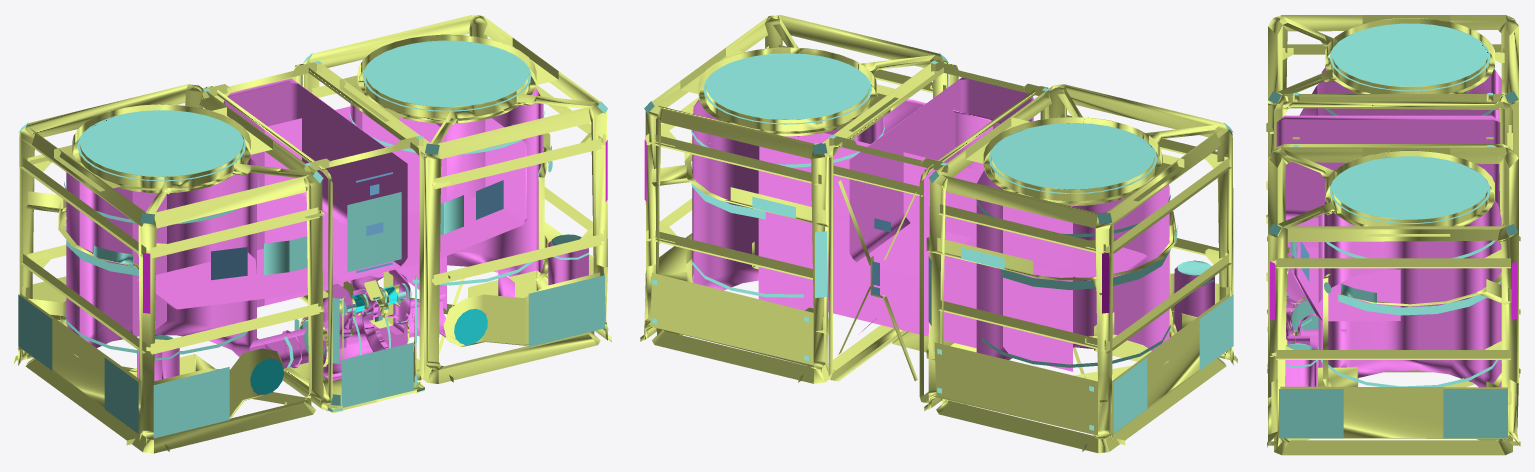
The model's file is tank_gas_3_05x025x025_a.glb.
3 renders of one model, left to right at view 1: azimuth 30°, elevation 25°; view 2: azimuth 150°, elevation 25°; view 3: azimuth 270°, elevation 25°, orthographic. The views are drawn at different scales.
Size of the model in its own units: 5.06 by 2.48 by 2.48.
